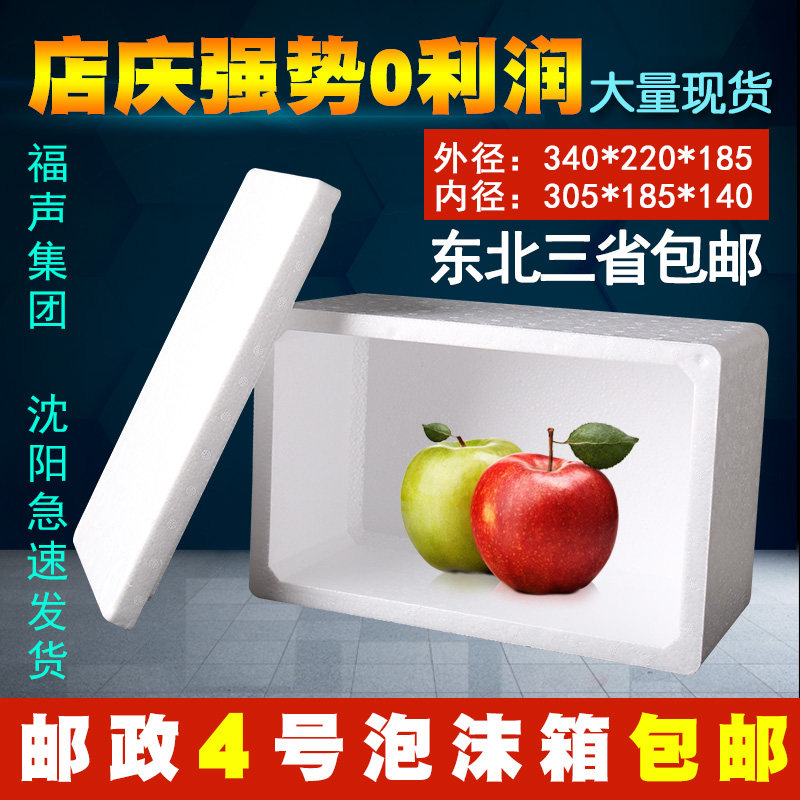Boxes: (75, 169, 768, 674)
